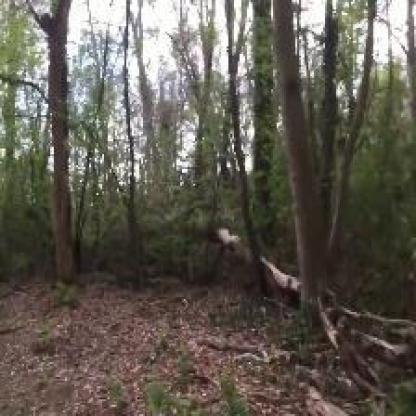other: (206, 218, 300, 291)
